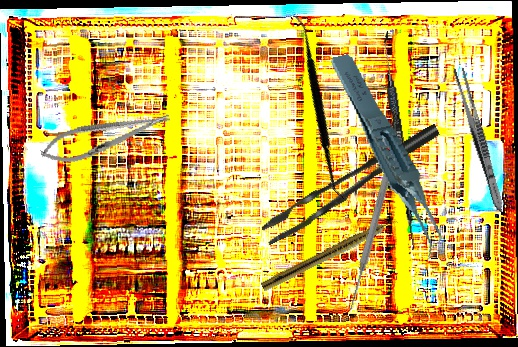Dressing Forceps: (450, 64, 508, 214)
Handpiece: (260, 214, 400, 295)
Needle Holder: (37, 102, 174, 171)
Pusher: (345, 137, 402, 312)
Spatula Surgical: (228, 14, 414, 202), (375, 31, 423, 251)
Tissue Forceps: (328, 42, 446, 272), (252, 123, 452, 246)
